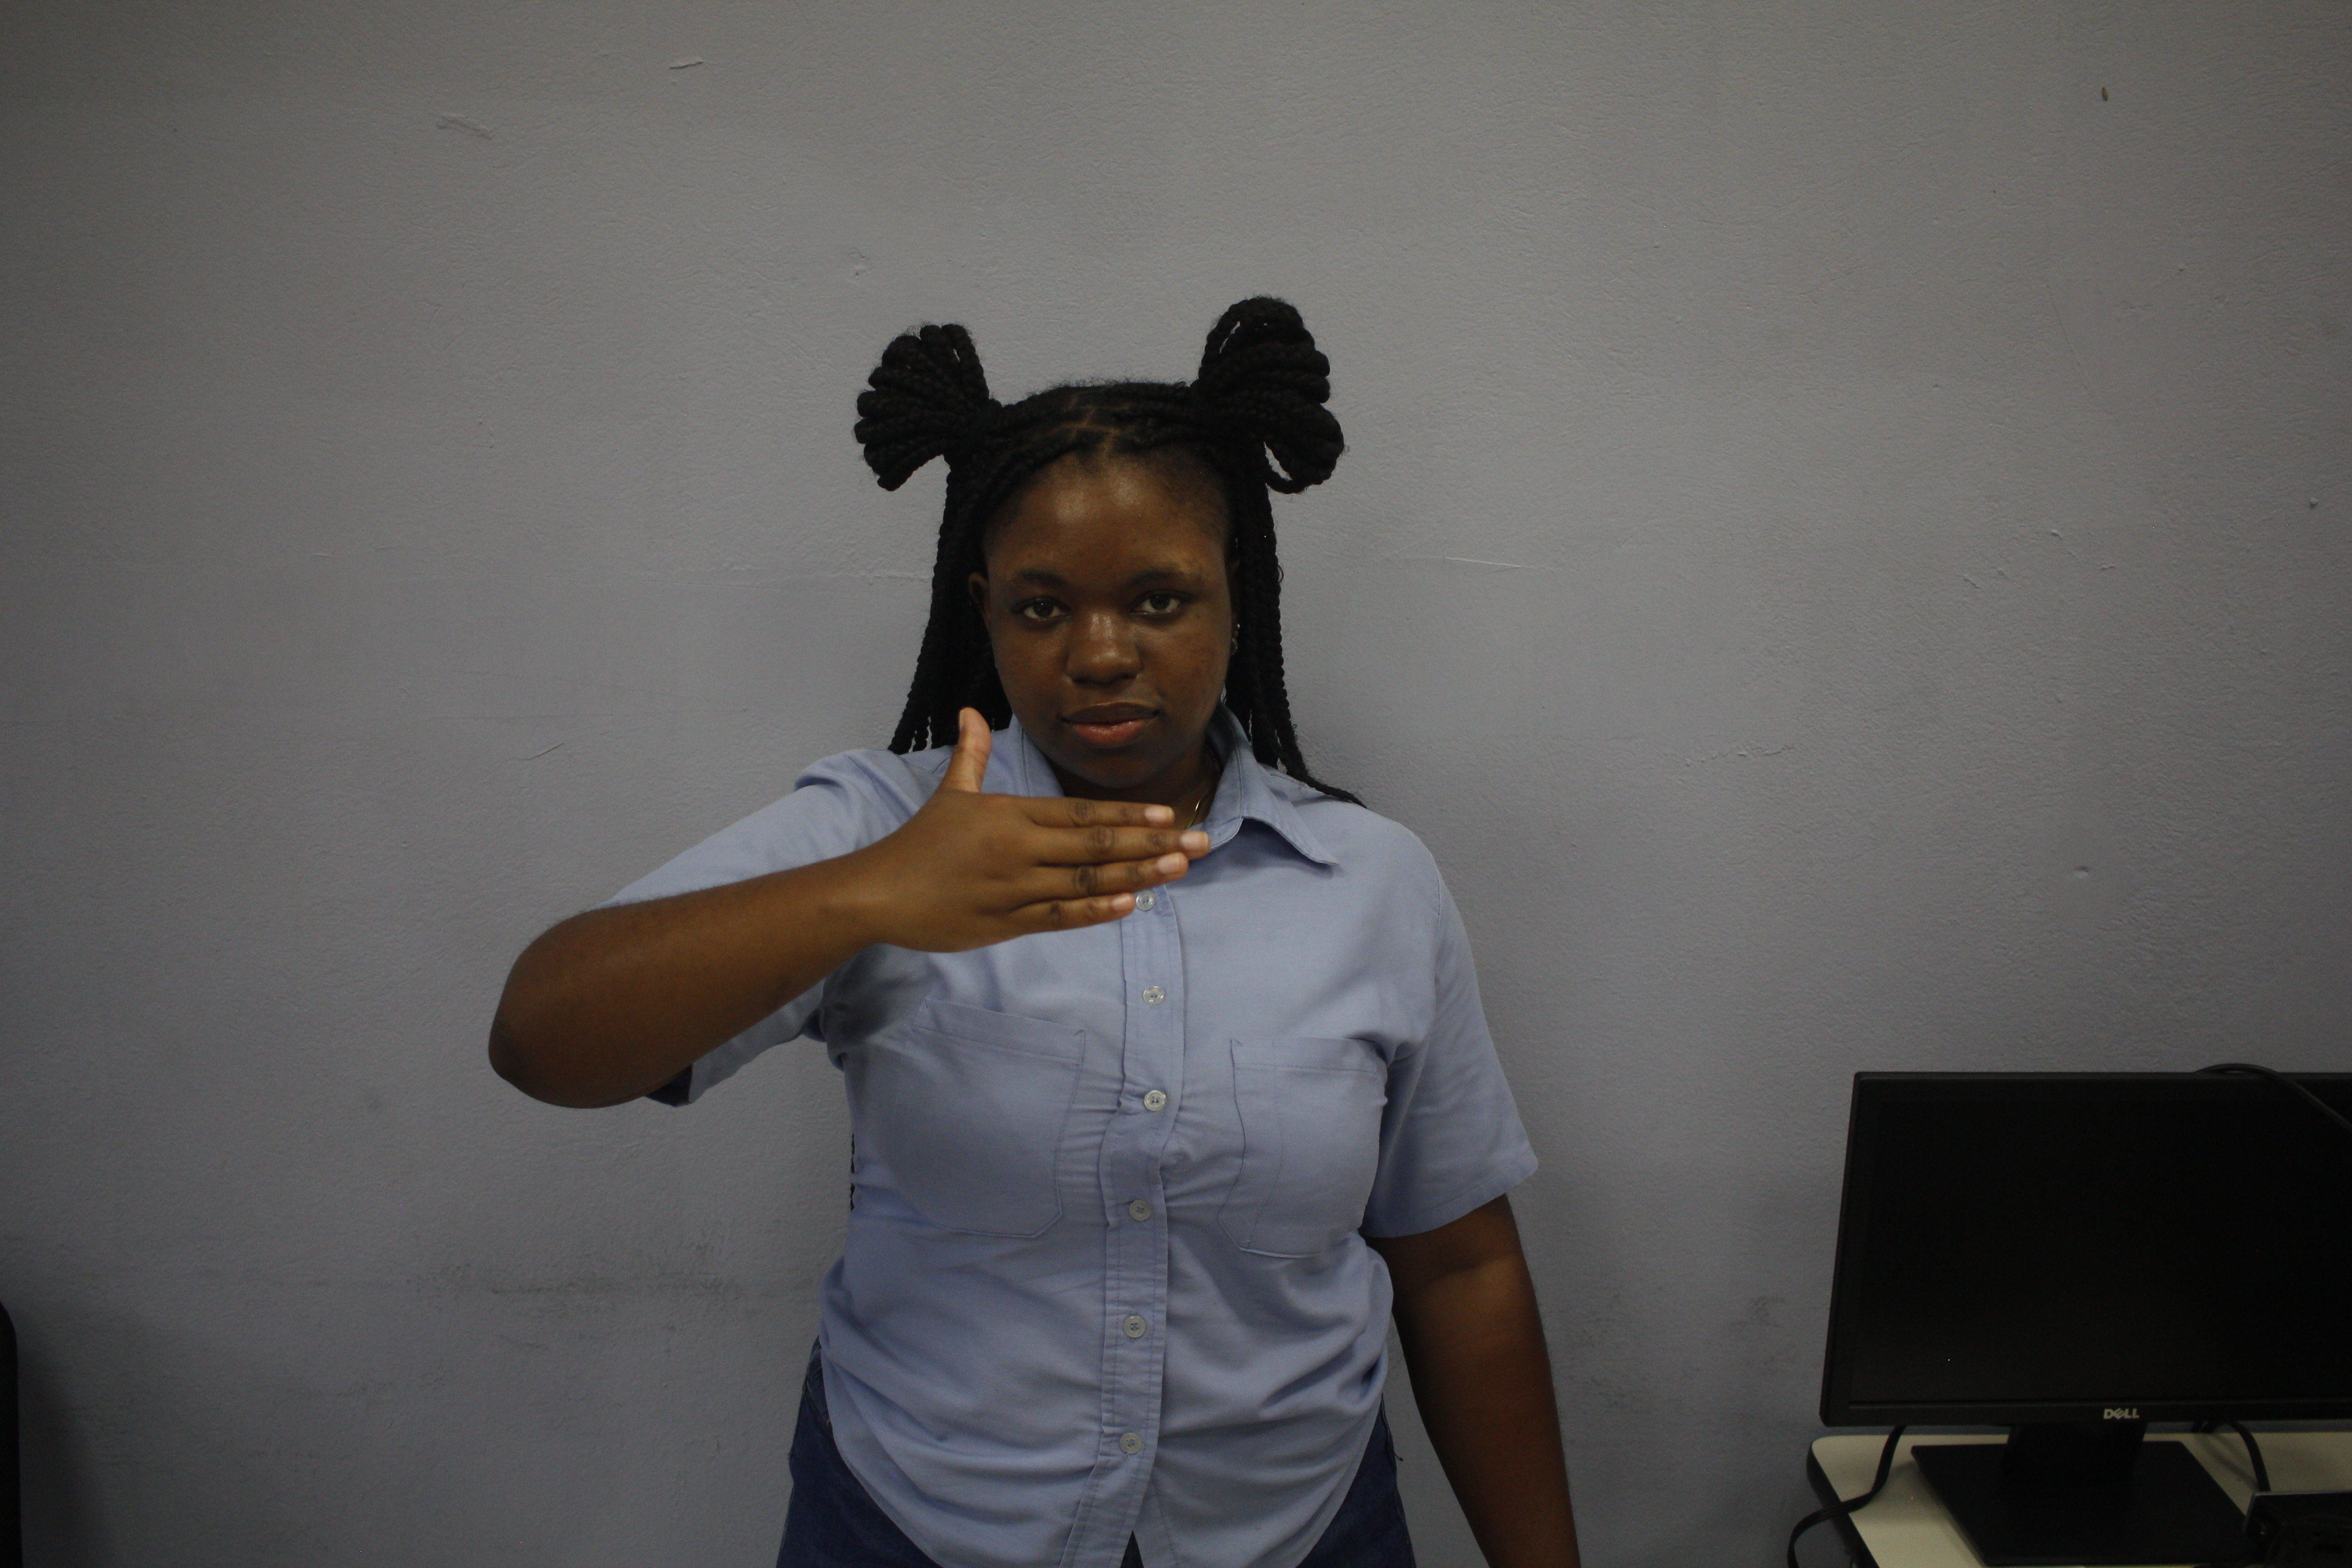you are welcome: (884, 693, 1218, 959)
